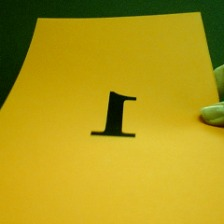orange1: (84, 90, 145, 143)
